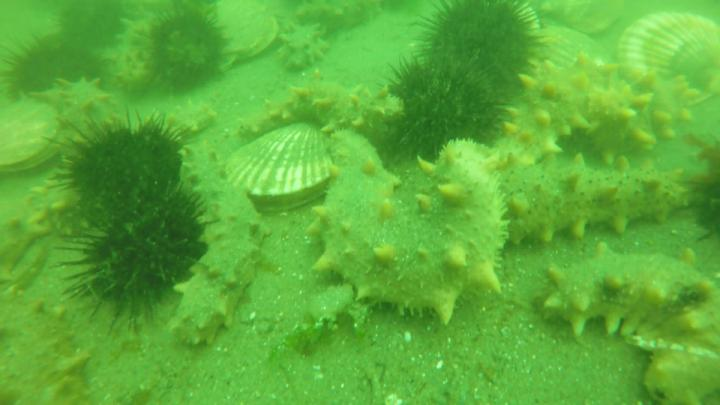echinus: (57, 187, 214, 334), (42, 111, 197, 224), (406, 1, 550, 103), (382, 49, 512, 160), (2, 32, 106, 106), (142, 5, 226, 92), (677, 129, 720, 236), (51, 1, 131, 54)
holothurian: (317, 126, 510, 322), (540, 240, 720, 405), (483, 51, 704, 170), (179, 146, 271, 345), (498, 157, 698, 243), (3, 215, 92, 405), (238, 76, 402, 148), (41, 76, 126, 162), (113, 2, 164, 97), (280, 17, 333, 70)
scallop: (224, 123, 333, 217), (617, 10, 720, 108), (1, 97, 70, 178), (215, 1, 280, 64), (521, 24, 606, 70)
